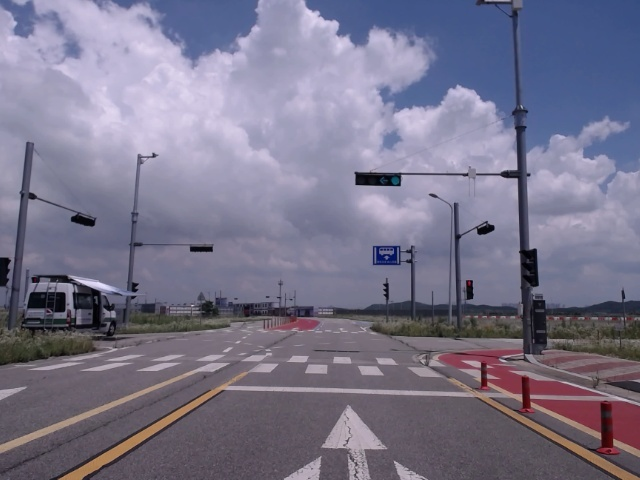all_green_4: (353, 171, 401, 186)
